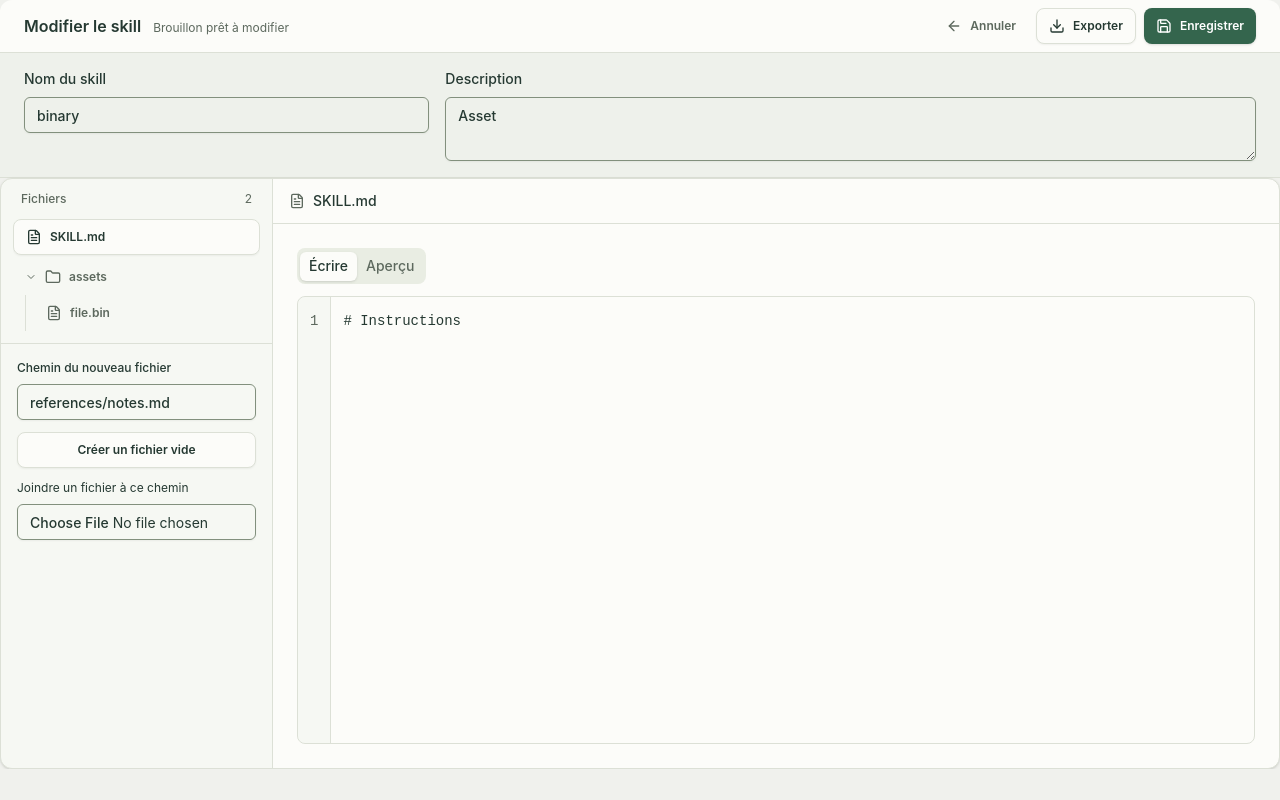
Test case: Skill package editing › shows a binary attachment without exposing an editable text control
Click the button with aria-label "assets/file.bin" at (147, 313), box top-left (34, 295), bottom-right (260, 331)
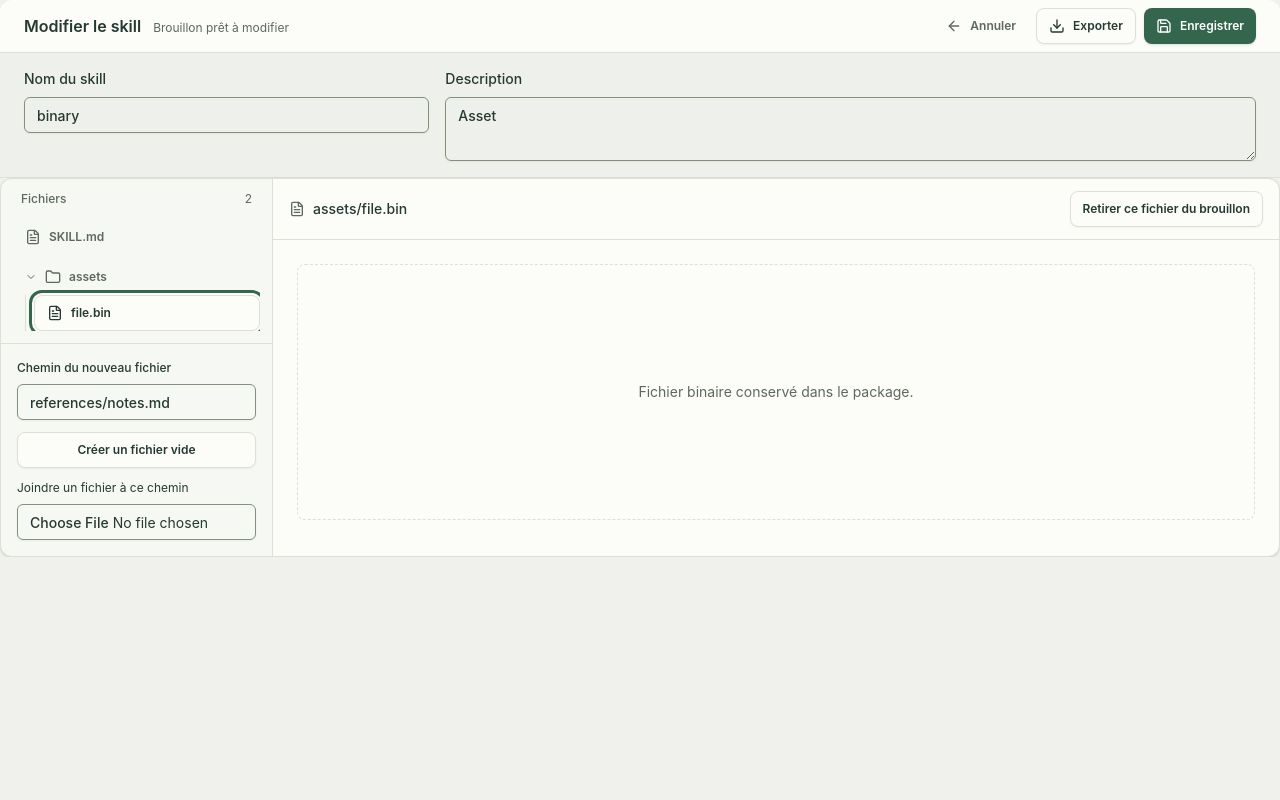
Expected: the text "Fichier binaire conservé dans le package." is shown, top-left (297, 264), bottom-right (1255, 520)
